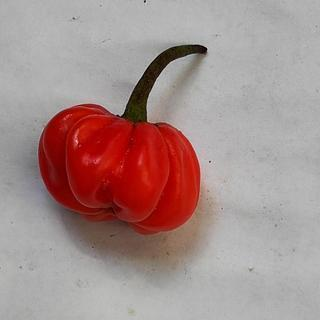Grade-B: (31, 93, 207, 237)
